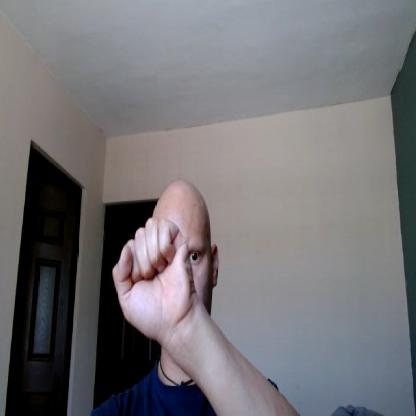S: (111, 216, 194, 338)
